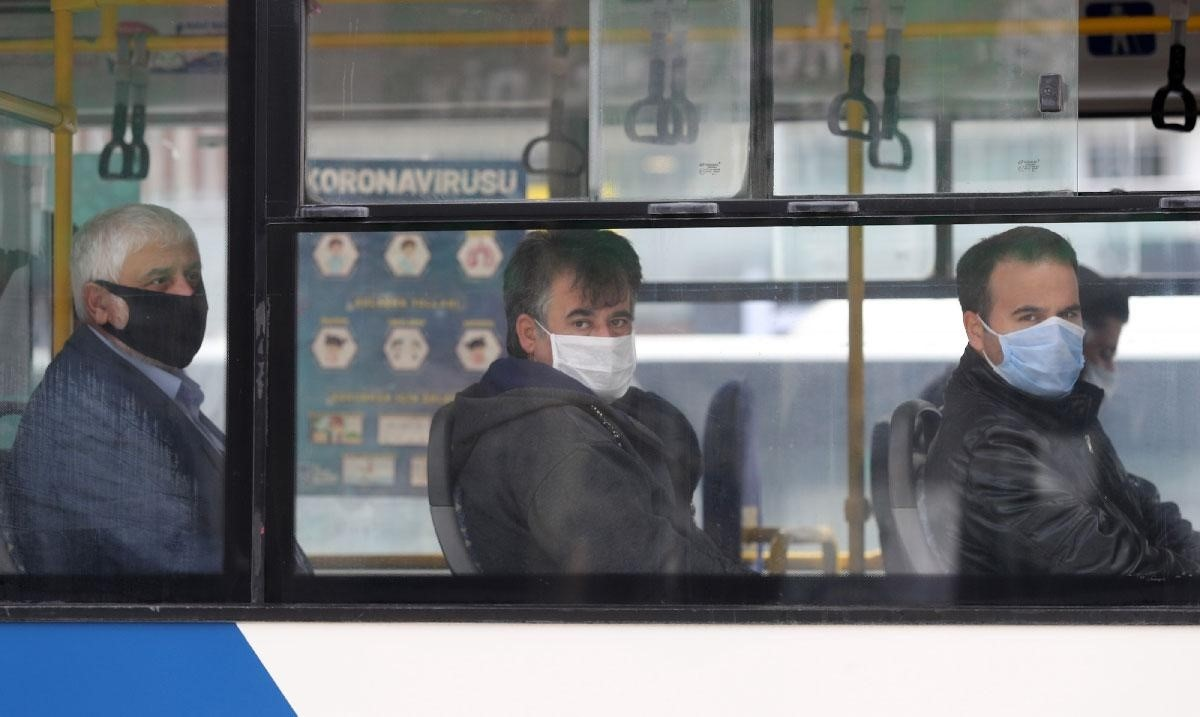face_with_mask: (496, 227, 649, 403), (953, 226, 1092, 402), (66, 203, 209, 369), (1077, 265, 1131, 392)
